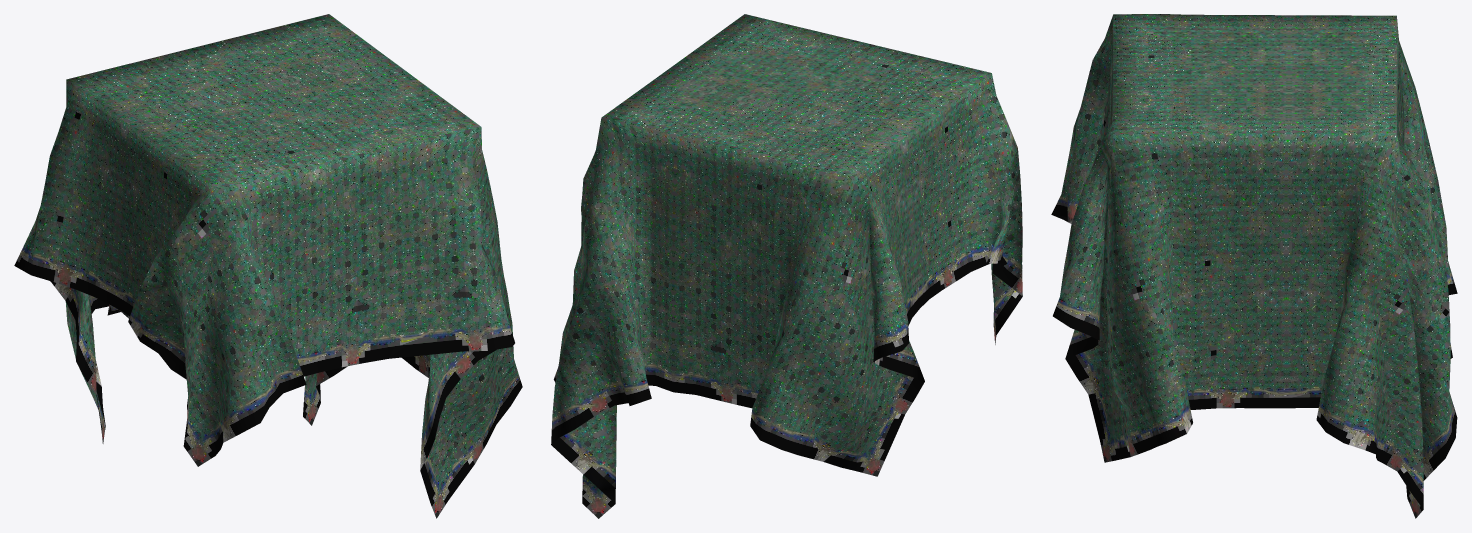
The model's file is fishing_net_crate_a.glb.
3 renders of one model, left to right at view 1: azimuth 30°, elevation 25°; view 2: azimuth 150°, elevation 25°; view 3: azimuth 270°, elevation 25°, orthographic. The views are drawn at different scales.
Visible parts, largest first — view 1: fishing_net_crate_a; view 2: fishing_net_crate_a; view 3: fishing_net_crate_a.
Boxes of the visible parts, x1,y1,x2,y2 form: fishing_net_crate_a: (14, 14, 522, 518); fishing_net_crate_a: (551, 14, 1022, 518); fishing_net_crate_a: (1051, 14, 1457, 518).
Size of the model in its own units: 2.22 by 2.3 by 2.17.
Materials: 1 (1 with a texture image).
